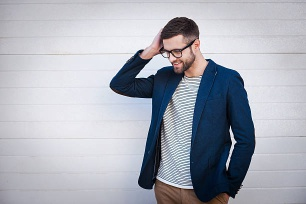male: (157, 16, 204, 75)
